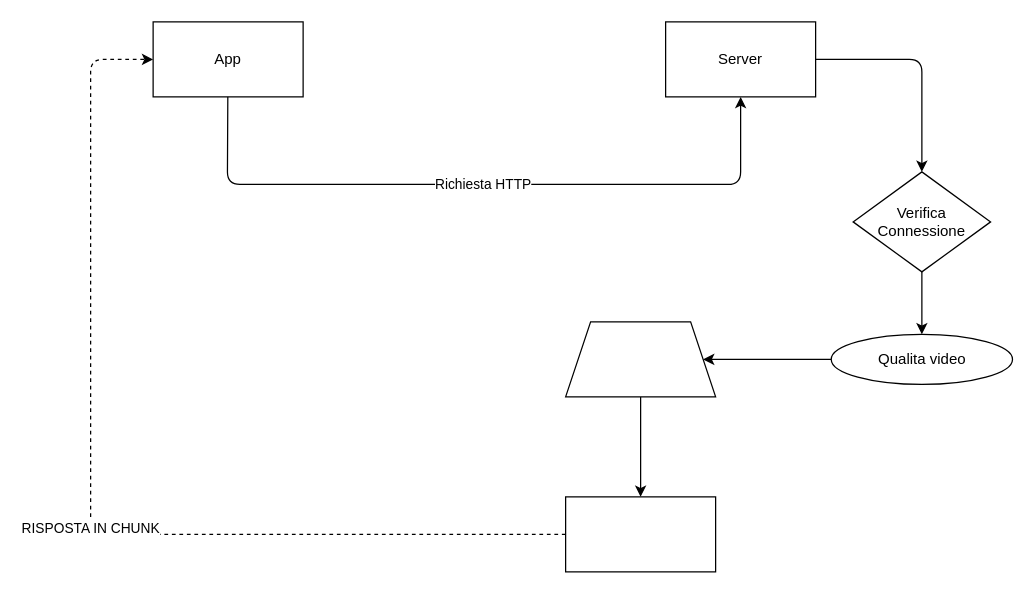
Some shapes in this 1034 by 594 pixel diagram are drawn without their labels. Each missing label, with the centre of its shape:
DB: the point at 640,359
VIDEO (risoluzione): the point at 640,534
